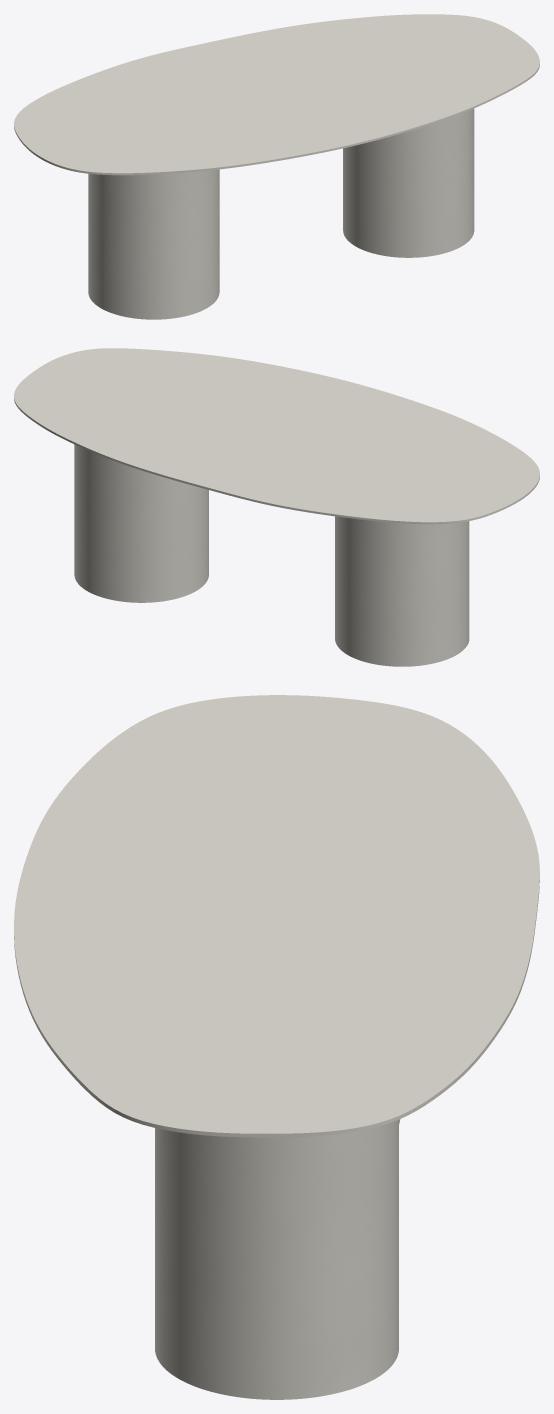
Rendered from pale_danish_facet_stream.glb.
3 views of the same model, one above another, from view 1: azimuth 30°, elevation 25°; view 2: azimuth 150°, elevation 25°; view 3: azimuth 270°, elevation 25° (orthographic). The views are drawn at different scales.
Parts seen in each view (by area): view 1: facet_danish, stream; view 2: facet_danish, stream; view 3: facet_danish, stream.
Boxes of the visible parts, box(x1,y1,x2,y2) form: facet_danish: box(14, 14, 539, 175); stream: box(88, 108, 474, 319); facet_danish: box(14, 348, 539, 524); stream: box(74, 444, 469, 666); facet_danish: box(14, 695, 539, 1137); stream: box(155, 1119, 400, 1399).
Bounding box in the file's own units: 7.5 × 2.5 × 3.8.
1 material, 1 textured.
